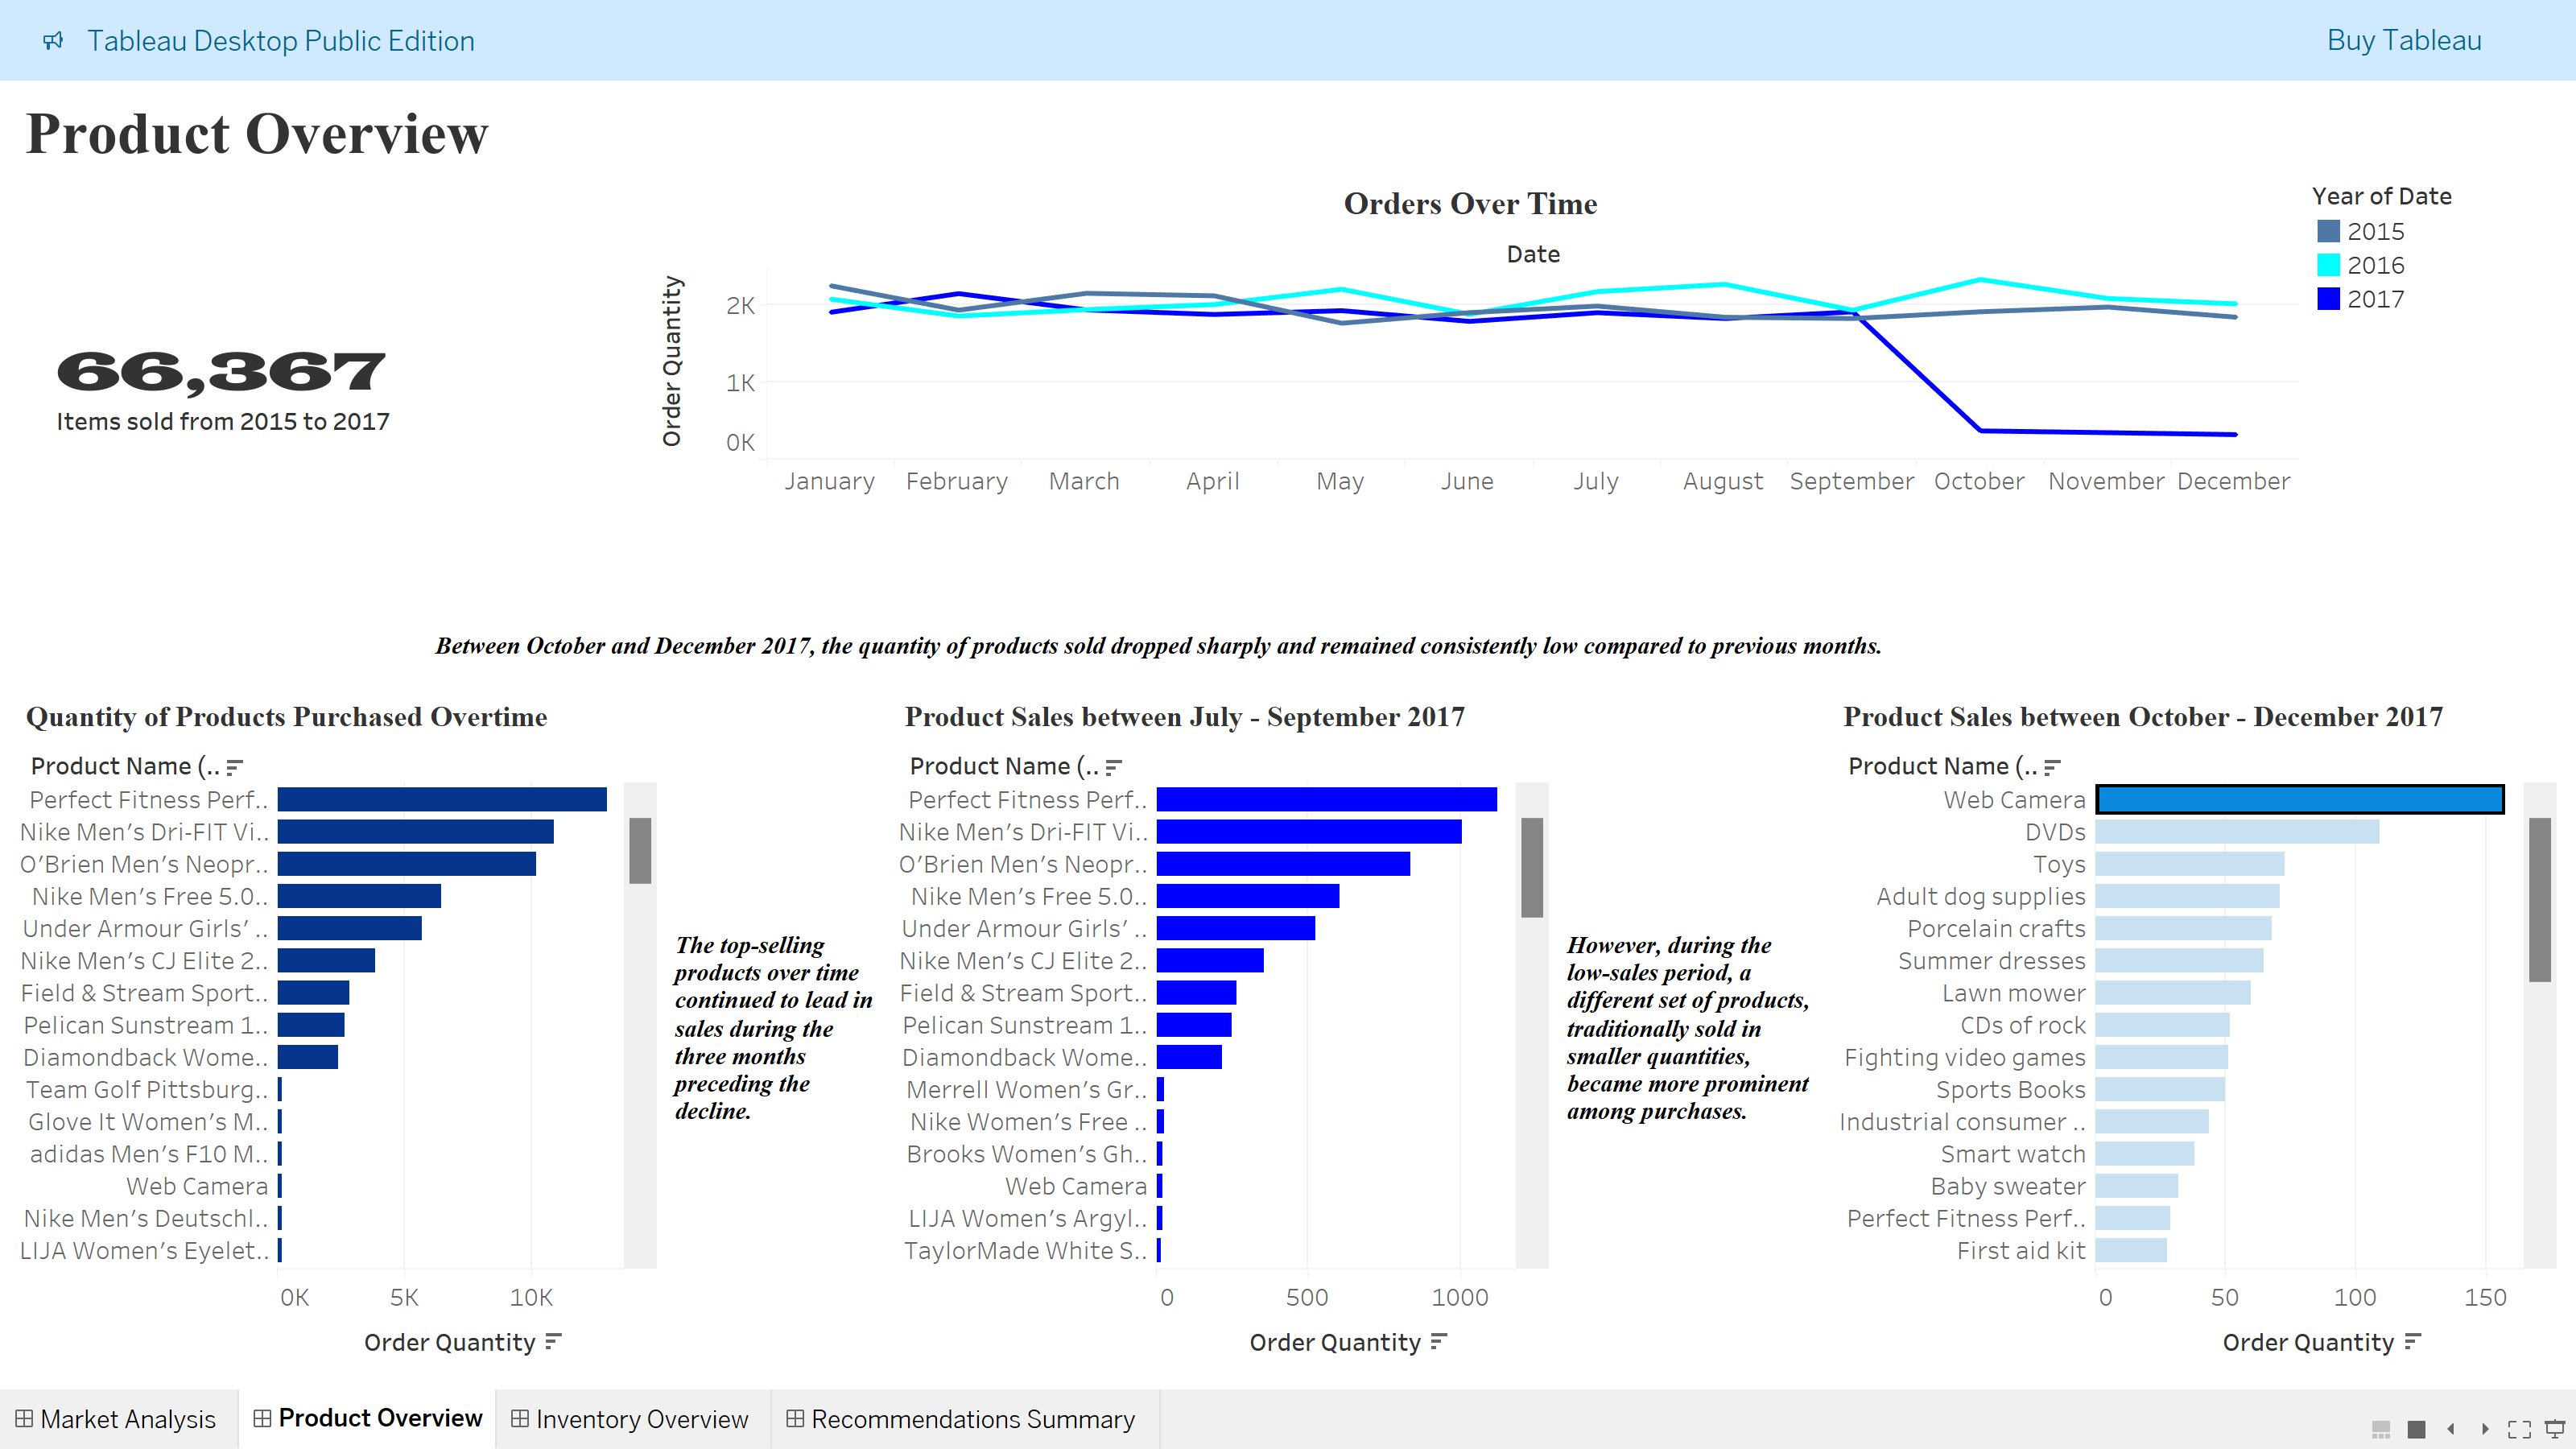

The dashboard page shown, as its layout file describes it:
{"tool":"tableau","page":{"name":"Product Overview","canvas":[1000,1000],"units":"permille","ordinal":2},"visuals":[{"type":"title","box":[6.1,14.1,987.8,86.3]},{"type":"text","box":[6.1,100.3,241.5,318.9]},{"type":"worksheet","title":"Sheet 2","mark":"Automatic","rows":["Order Quantity"],"cols":["Calculation_446419315558359043"],"box":[247.6,100.3,646.8,318.9]},{"type":"legend","title":"Sheet 2","param":"[federated.1p3jwe11lrjc0614ro7zn1ldq7go].[yr:Calculation_446419315558359043:ok]","box":[894.4,100.3,99.5,378.4]},{"type":"text","box":[6.1,419.3,888.3,59.4]},{"type":"worksheet","title":"Sheet 9","mark":"Automatic","rows":["Product Name (orders!and!shipments)"],"cols":["Order Quantity"],"box":[6.1,478.7,251.9,507.2]},{"type":"text","box":[258,478.7,88.8,507.2]},{"type":"worksheet","title":"Sheet 10","mark":"Automatic","rows":["Product Name (orders!and!shipments)"],"cols":["Order Quantity"],"box":[346.8,478.7,256.7,507.2]},{"type":"text","box":[603.5,478.7,106.9,507.2]},{"type":"worksheet","title":"Sheet 11","mark":"Automatic","rows":["Product Name (orders!and!shipments)"],"cols":["Order Quantity"],"box":[710.4,478.7,283.5,507.2]}]}

Visuals, with their boxes on the dashboard's canvas, which has no fixed pixel size, in thousandths of its width and height (x1, y1, x2, y2). These are canvas units, not pixel positions in the 2576x1449 screenshot, which may show the page scaled, cropped or inside an application window:
title: detection(6, 14, 994, 100)
text: detection(6, 100, 248, 419)
"Sheet 2" worksheet: detection(248, 100, 894, 419)
"Sheet 2" legend: detection(894, 100, 994, 479)
text: detection(6, 419, 894, 479)
"Sheet 9" worksheet: detection(6, 479, 258, 986)
text: detection(258, 479, 347, 986)
"Sheet 10" worksheet: detection(347, 479, 604, 986)
text: detection(604, 479, 710, 986)
"Sheet 11" worksheet: detection(710, 479, 994, 986)
